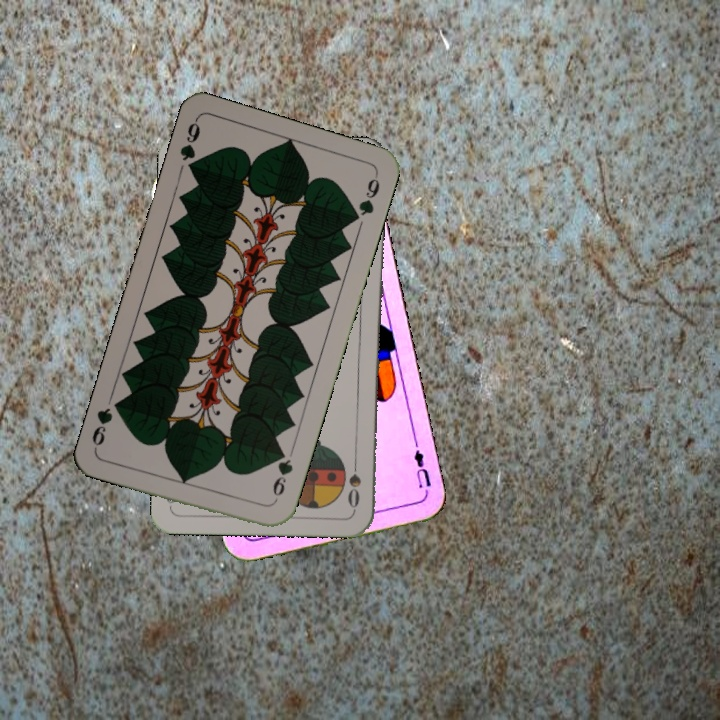EU: (410, 445, 434, 497)
G9: (268, 446, 296, 506), (176, 116, 203, 177)
SO: (344, 452, 363, 511)
